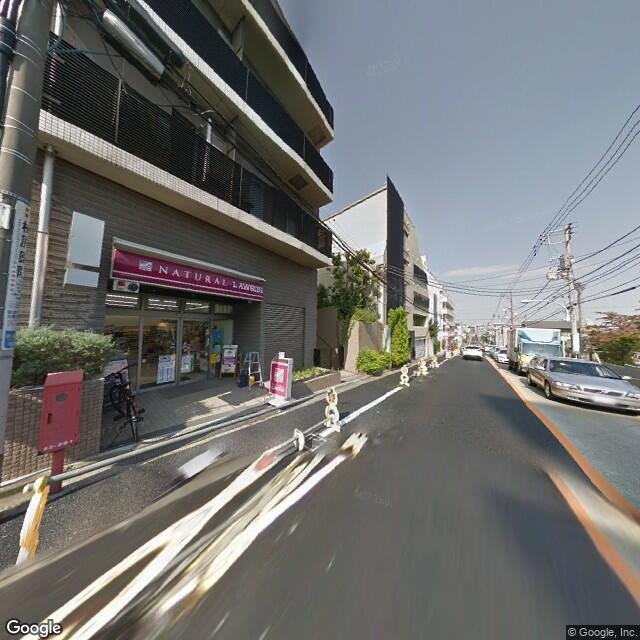lawson: (111, 243, 265, 305), (269, 357, 290, 398)
